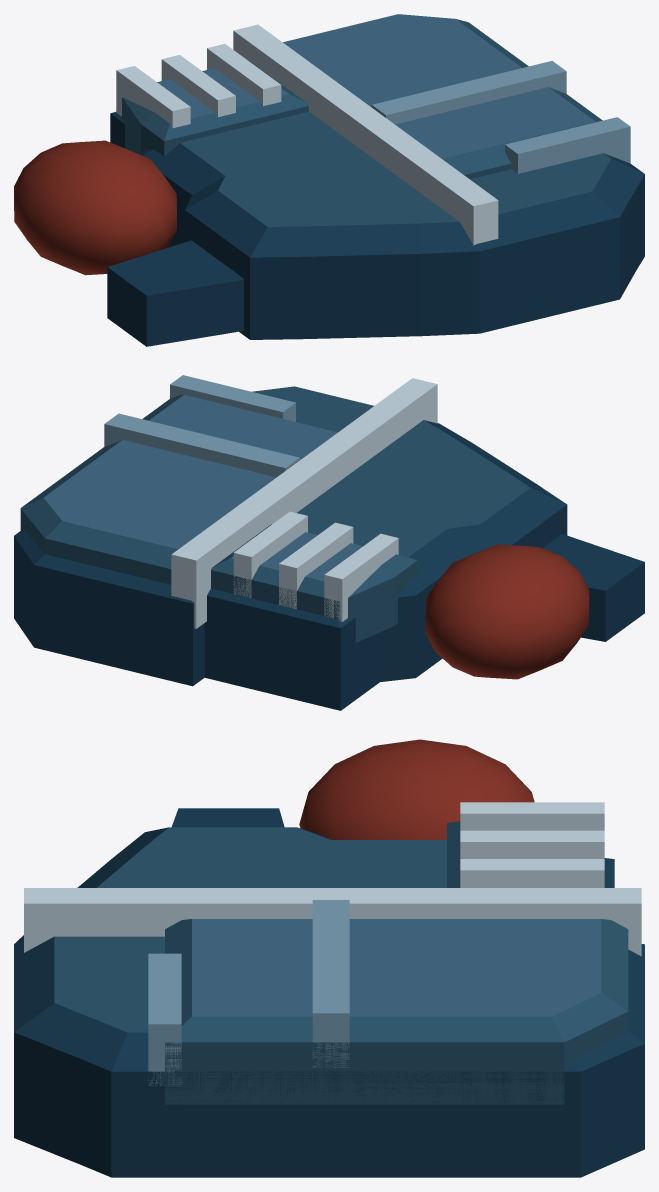
Rendered from newshv-89.glb.
The picture shows the model from 3 angles, top to bottom: view 1: azimuth 30°, elevation 25°; view 2: azimuth 150°, elevation 25°; view 3: azimuth 270°, elevation 25°; orthographic projection. The views are drawn at different scales.
Visible parts, largest first — view 1: newshv-89; view 2: newshv-89; view 3: newshv-89.
Part boxes in pixels (left/top/right/bottom): newshv-89: left=14, top=14, right=644, bottom=346; newshv-89: left=14, top=375, right=644, bottom=710; newshv-89: left=14, top=739, right=644, bottom=1177.
Bounding box in the file's own units: 1.83 × 0.45 × 1.57.
